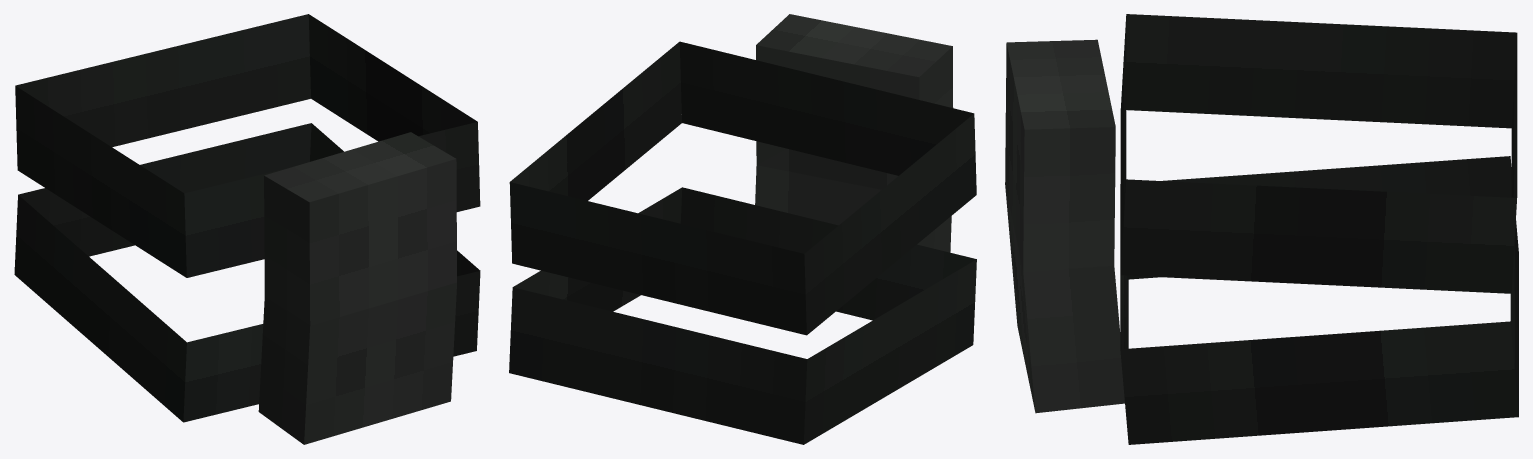
File: elbow_pad.obj
3 views of the same model, side by side, from view 1: azimuth 30°, elevation 25°; view 2: azimuth 150°, elevation 25°; view 3: azimuth 270°, elevation 25° (orthographic). The views are drawn at different scales.
Visible parts, largest first — view 1: elbow_pad; view 2: elbow_pad; view 3: elbow_pad.
Boxes of the visible parts, left/top/right/bottom form: elbow_pad: left=14, top=14, right=480, bottom=444; elbow_pad: left=509, top=14, right=976, bottom=444; elbow_pad: left=1005, top=14, right=1518, bottom=444.
Bounding box in the file's own units: 0.2656 × 0.2127 × 0.3486.
